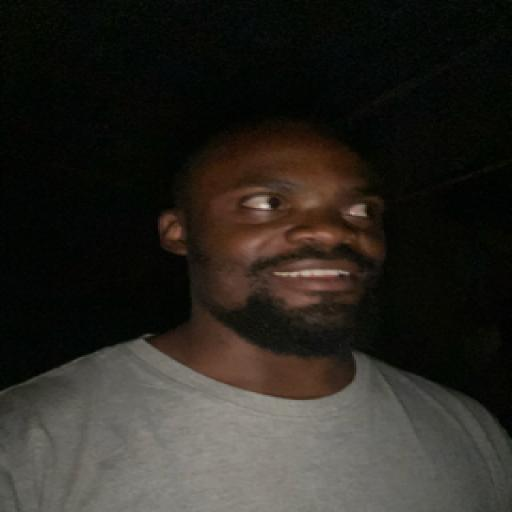JEANLUC: (148, 115, 404, 361)
